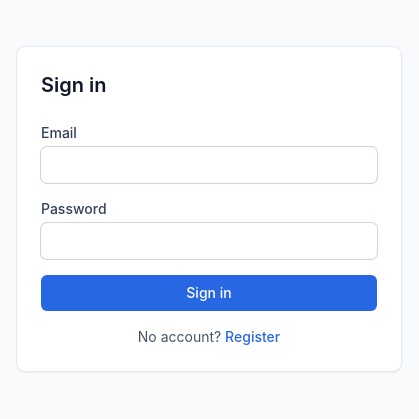
LoginPage › shows the backend message when credentials are wrong
Type "admin@example.com" into the field labelled "Email" at (209, 165), box [41, 147, 377, 183]
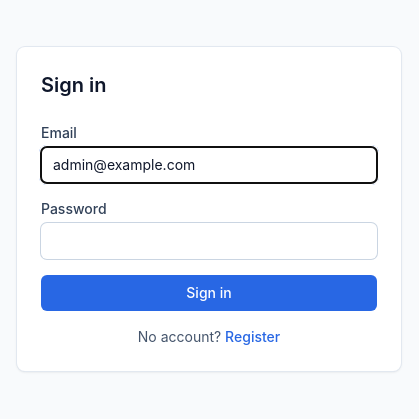
Type "wrong" into the password field labelled "Password" at (209, 241), box [41, 223, 377, 259]
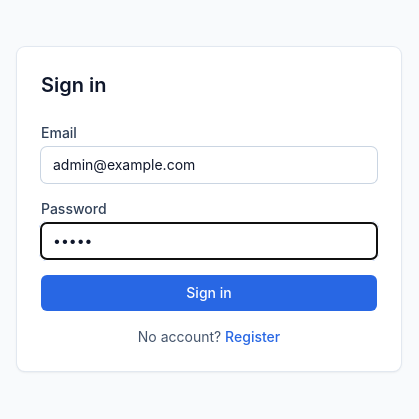
Click the button "Sign in" at (209, 293), box [41, 275, 377, 311]
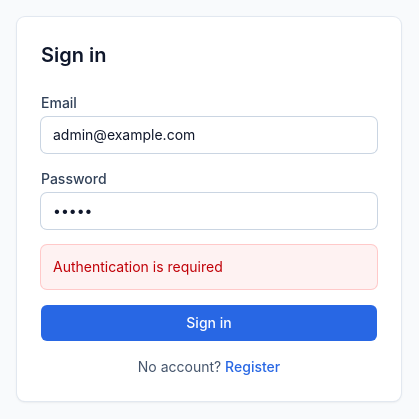
Expected: the message "Authentication is required" is shown, [41, 245, 377, 289]
